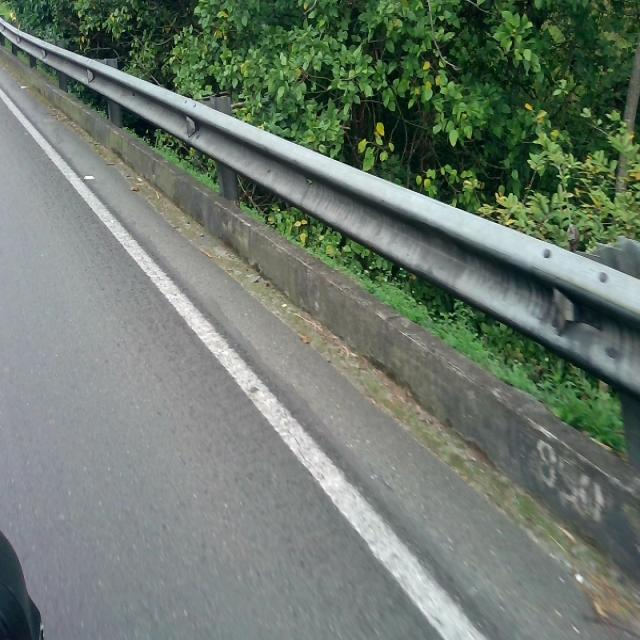DITCH: (1, 55, 638, 638), (1, 68, 638, 638), (1, 110, 638, 638)
